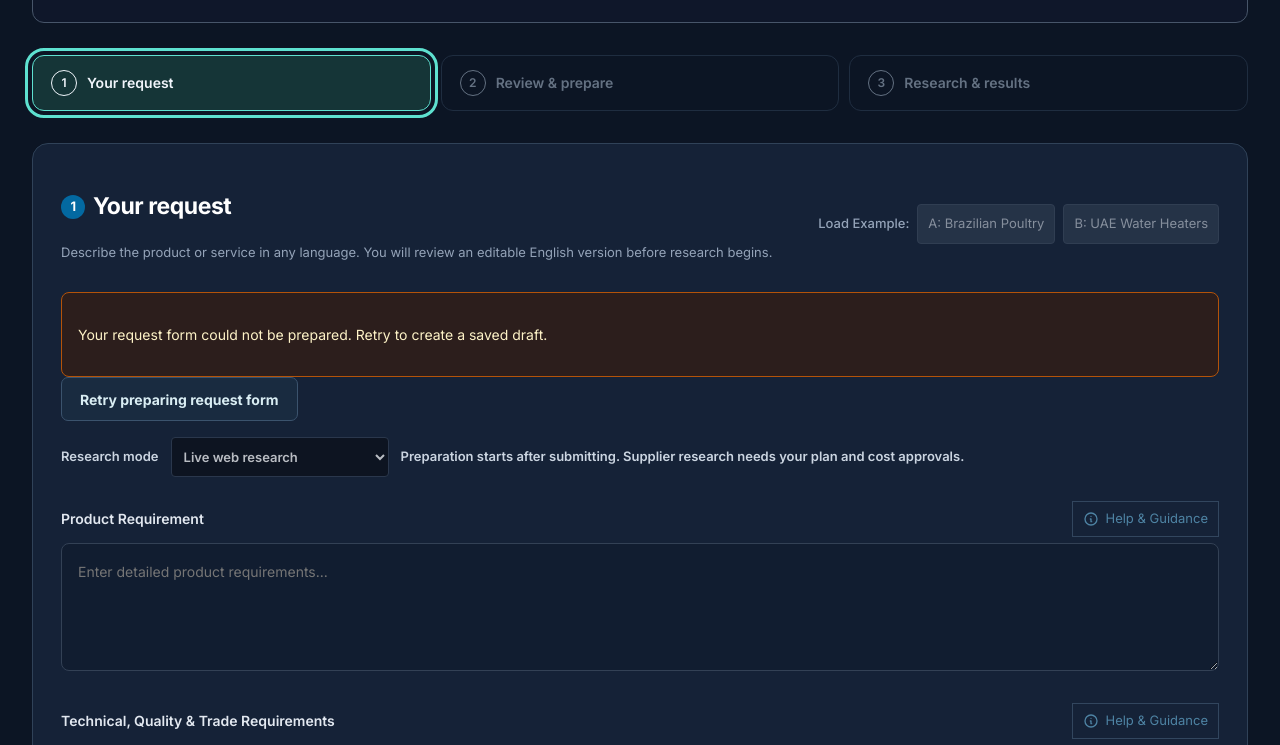
Test: MB-UX-QUALITY-001 L05 intake readiness › keeps failed draft creation disabled and retries without inventing a saved identity
(page scrolled)
expect the text "Your request form could not be prepared" is shown: met, box [78,326,547,343]
expect the text box labelled "Product Requirement" is disabled: met, box [61,543,1219,671]
Click the button "Retry preparing request form".
click(179, 399)  # box [61,377,298,421]
(page scrolled)
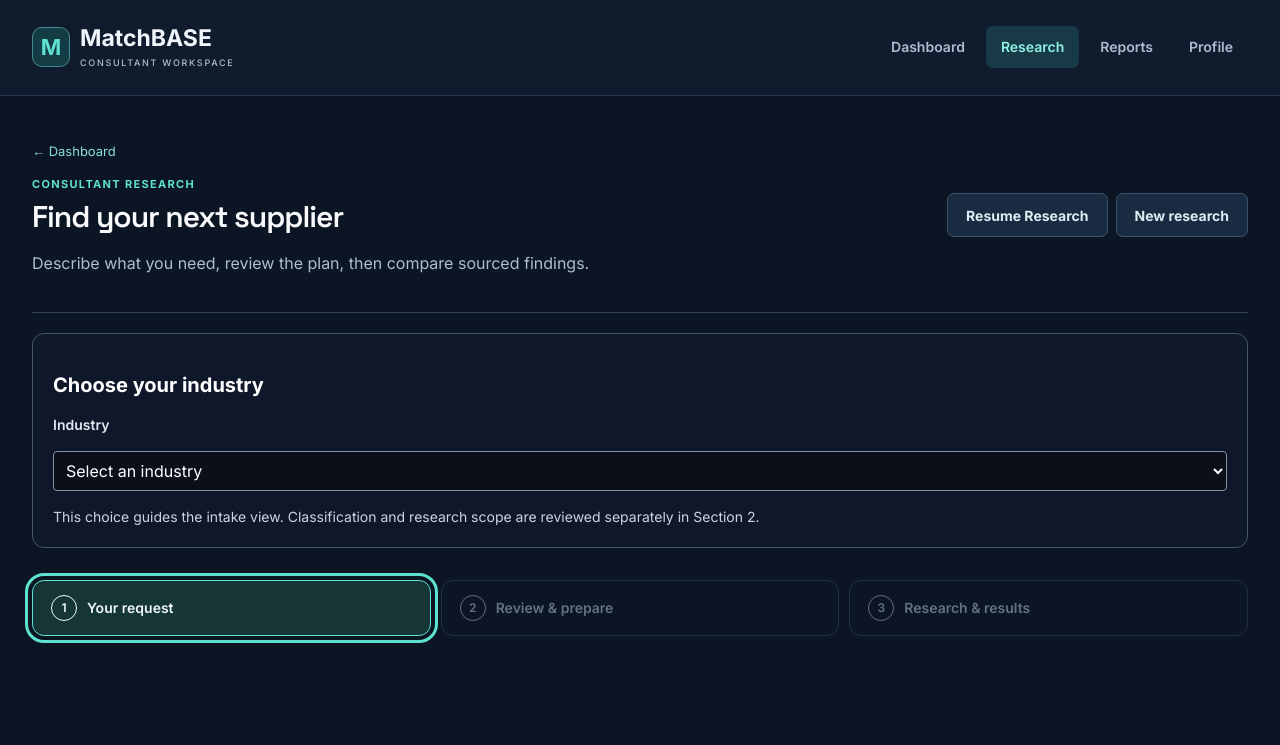
expect the button "Retry preparing request form" is gone: met
expect the text "Your request form could not be prepared" is gone: met
